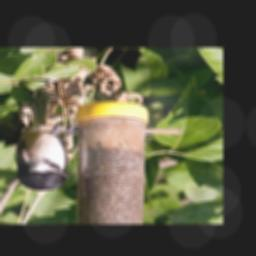Swallow: (14, 120, 79, 193)
